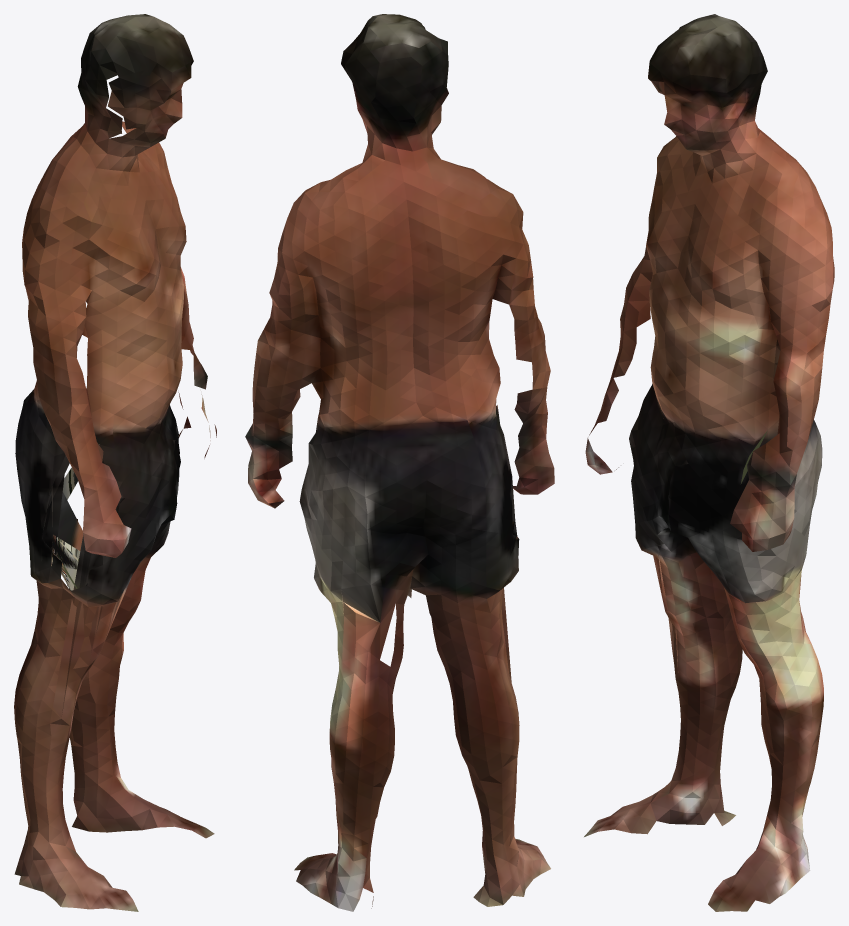
Rendered from athlete.glb.
The picture shows the model from 3 angles, left to right: view 1: azimuth 30°, elevation 25°; view 2: azimuth 150°, elevation 25°; view 3: azimuth 270°, elevation 25°; orthographic projection. The views are drawn at different scales.
Parts seen in each view (by area): view 1: Mesh_0; view 2: Mesh_0; view 3: Mesh_0.
Part boxes in pixels (bbox=[...]): Mesh_0: bbox=[14, 14, 216, 911]; Mesh_0: bbox=[245, 14, 554, 911]; Mesh_0: bbox=[584, 14, 834, 911].
Size of the model in its own units: 0.2882 by 1.01 by 0.2719.
Materials: 1 (1 with a texture image).
